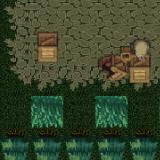Hide: (28, 26, 68, 68)
Obstacle: (94, 35, 158, 96), (127, 128, 160, 160), (94, 127, 126, 160), (62, 127, 94, 160), (30, 127, 62, 160), (0, 127, 30, 160)
Slow: (94, 96, 128, 128), (31, 96, 63, 128)
